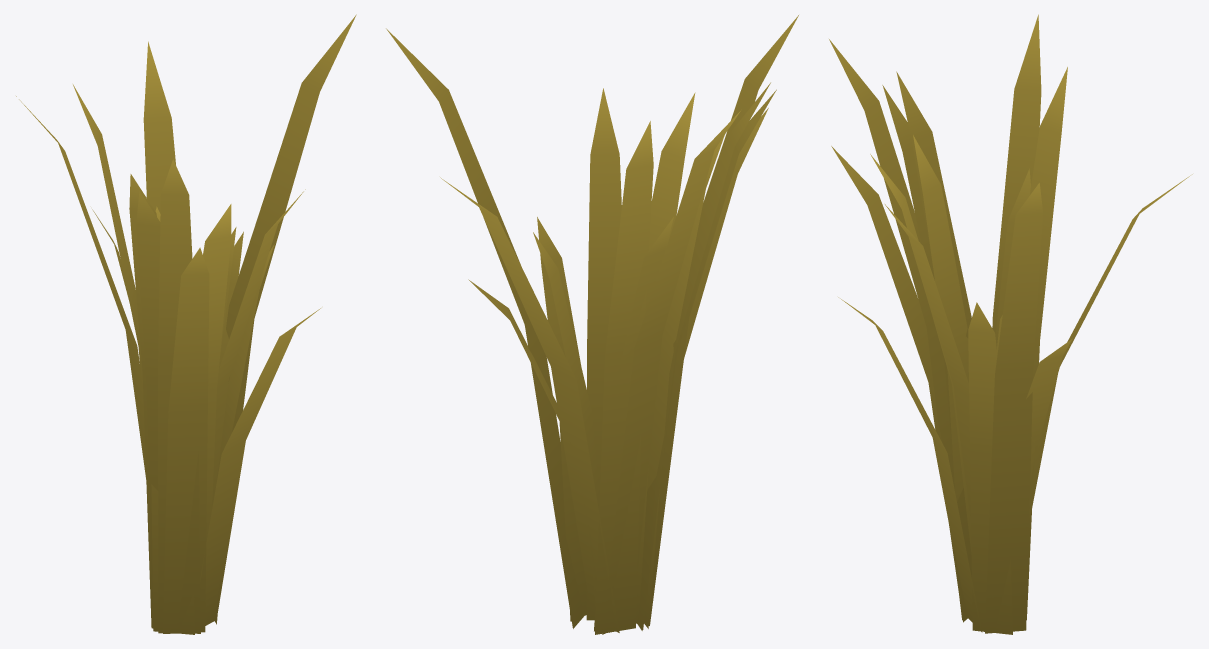
Rendered from rice_gold.glb.
3 views of the same model, side by side, from view 1: azimuth 30°, elevation 25°; view 2: azimuth 150°, elevation 25°; view 3: azimuth 270°, elevation 25° (orthographic). The views are drawn at different scales.
Parts seen in each view (by area): view 1: rice_gold; view 2: rice_gold; view 3: rice_gold.
Boxes of the visible parts, bbox=[...] form: rice_gold: bbox=[16, 14, 356, 634]; rice_gold: bbox=[386, 15, 798, 634]; rice_gold: bbox=[829, 14, 1192, 634].
Size of the model in its own units: 0.5585 by 0.852 by 0.527.
